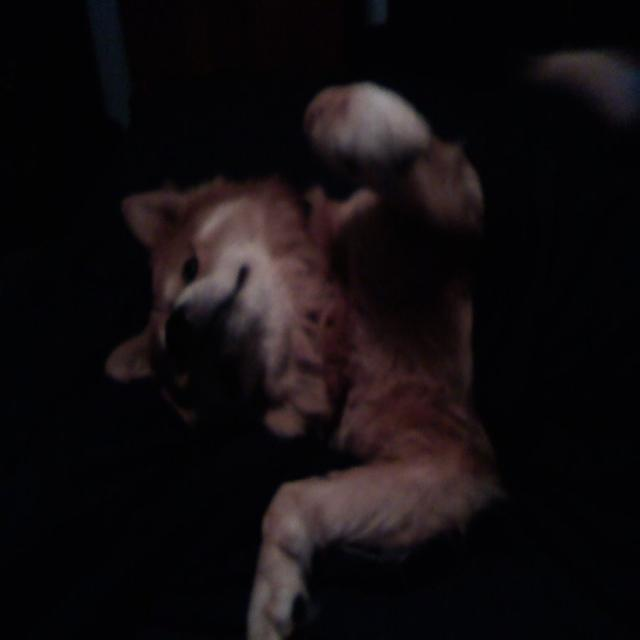dog: (100, 43, 640, 614)
